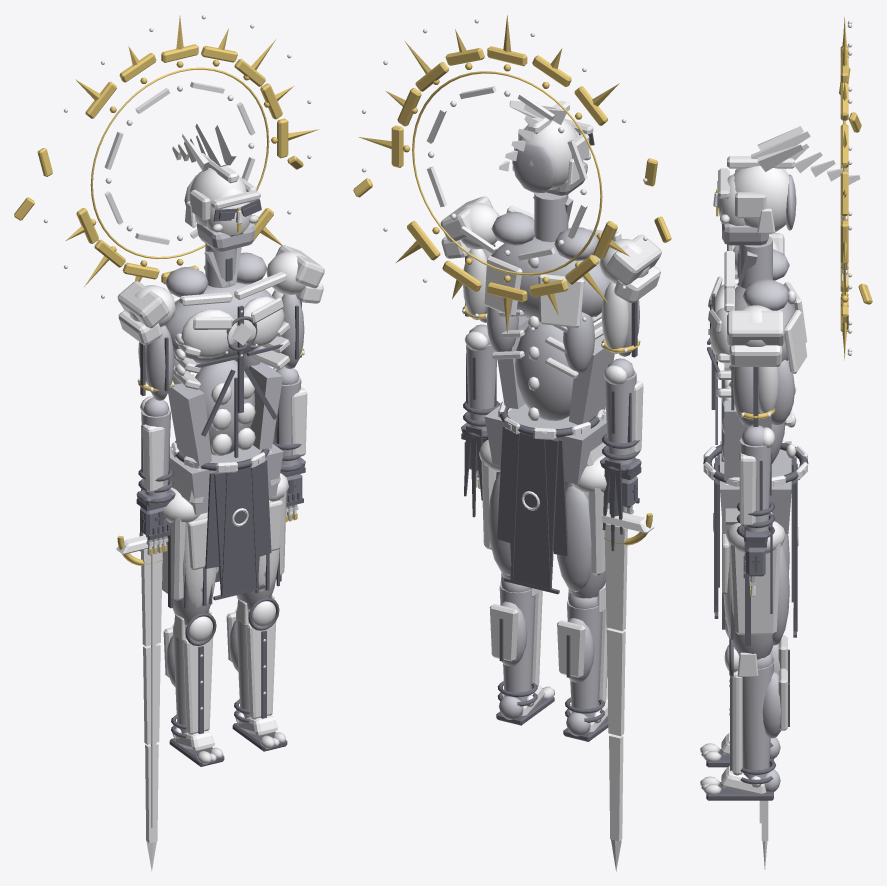
Rendered from absolute.glb.
3 renders of one model, left to right at view 1: azimuth 30°, elevation 25°; view 2: azimuth 150°, elevation 25°; view 3: azimuth 270°, elevation 25°, orthographic. The views are drawn at different scales.
Parts seen in each view (by area): view 1: seam.017, skin.017, skin.012, plate.003, plate.008, skin.020, skin.014, skin.013, plate.150, plate.029, plate.147, skin.036 (+29 smaller); view 2: seam.023, skin.013, skin.020, skin.012, skin.007, plate.147, skin.017, skin.009, skin.003, plate.148, skin.028, skin.038 (+30 smaller); view 3: plate*0.001, skin.003, plate.039, skin.012, plate*0.025, skin.014, skin.028, plate.049, skin.021, skin.015, plate.046, plate.003 (+38 smaller).
Boxes of the visible parts, bbox=[...] form: seam.017: bbox=[214, 462, 264, 595]; skin.017: bbox=[168, 383, 211, 465]; skin.012: bbox=[170, 444, 283, 515]; plate.003: bbox=[246, 622, 276, 719]; plate.008: bbox=[183, 637, 213, 734]; skin.020: bbox=[165, 282, 275, 363]; skin.014: bbox=[249, 362, 282, 449]; skin.013: bbox=[195, 360, 255, 455]; plate.150: bbox=[151, 547, 156, 827]; plate.029: bbox=[181, 309, 237, 358]; plate.147: bbox=[141, 545, 162, 646]; skin.036: bbox=[145, 325, 174, 400]; seam.023: bbox=[504, 428, 558, 588]; skin.013: bbox=[515, 321, 573, 420]; skin.020: bbox=[491, 236, 609, 320]; skin.012: bbox=[484, 404, 606, 484]; skin.007: bbox=[556, 485, 591, 591]; plate.147: bbox=[604, 523, 627, 631]; skin.017: bbox=[569, 335, 614, 424]; skin.009: bbox=[566, 600, 602, 718]; skin.003: bbox=[499, 583, 535, 701]; plate.148: bbox=[606, 628, 625, 736]; skin.028: bbox=[466, 344, 496, 431]; skin.038: bbox=[605, 370, 636, 465]; plate*0.001: bbox=[731, 544, 780, 634]; skin.003: bbox=[742, 661, 773, 779]; plate.039: bbox=[734, 166, 796, 234]; skin.012: bbox=[720, 441, 791, 533]; plate*0.025: bbox=[727, 310, 784, 346]; skin.014: bbox=[724, 400, 771, 480]; skin.028: bbox=[739, 438, 771, 532]; plate.049: bbox=[739, 452, 756, 526]; skin.021: bbox=[738, 236, 772, 288]; skin.015: bbox=[743, 279, 789, 310]; plate.046: bbox=[729, 345, 781, 366]; plate.003: bbox=[732, 671, 742, 775].
Bounding box in the file's own units: 1.43 × 3.71 × 0.6605.
